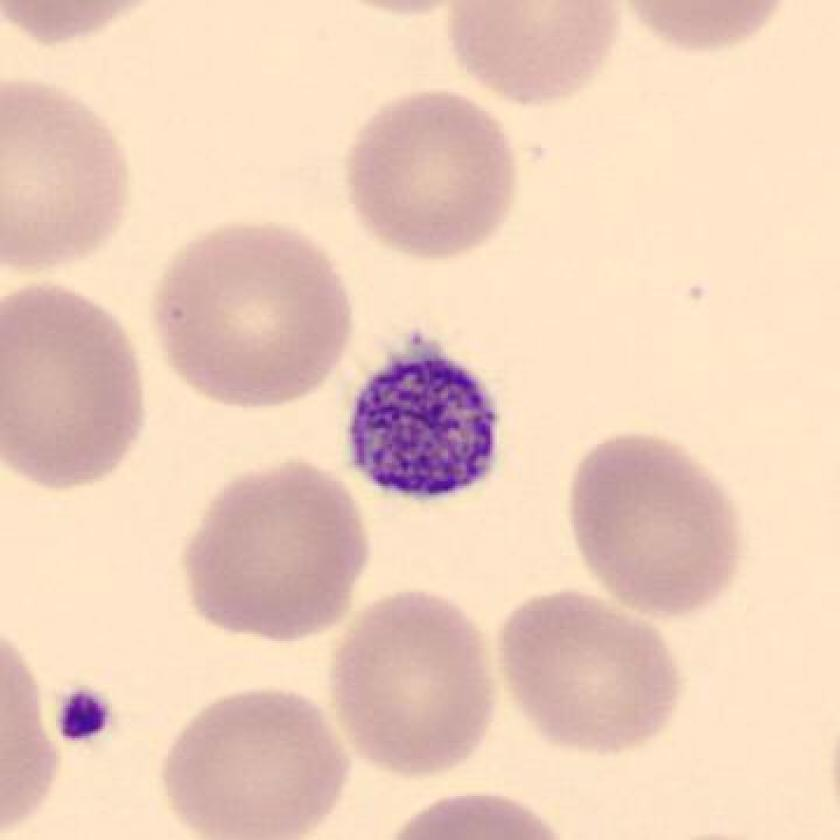platelets: (337, 318, 510, 510), (48, 677, 125, 760)
